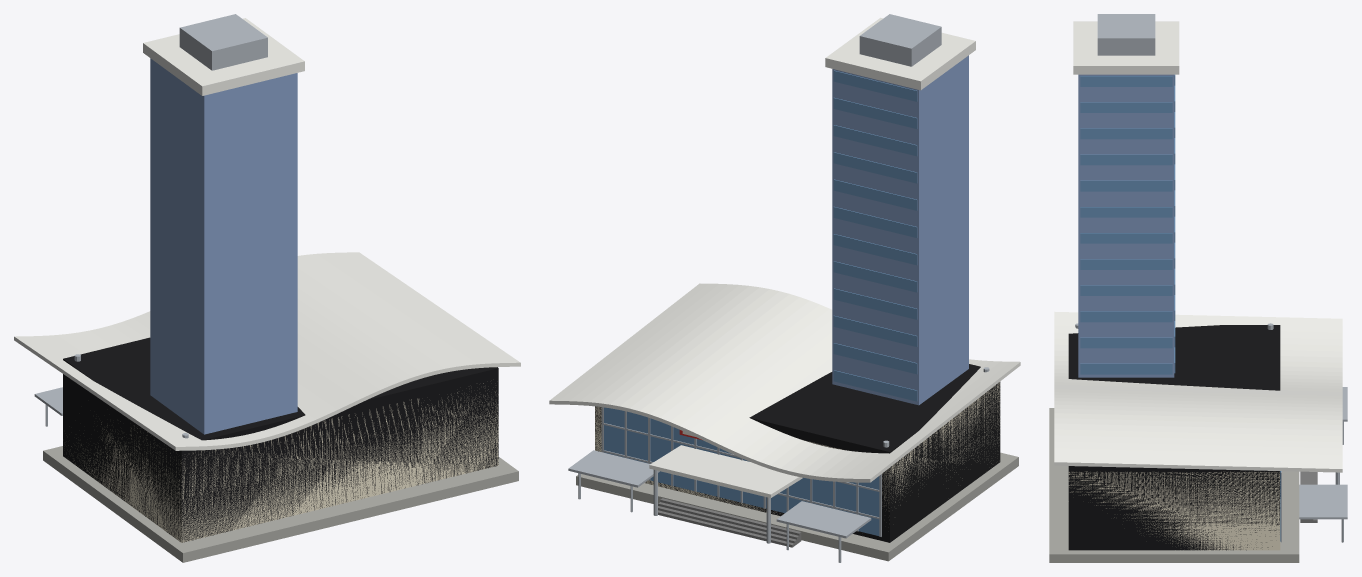
File: env_lm_kl_sentral.fbx
3 renders of one model, left to right at view 1: azimuth 30°, elevation 25°; view 2: azimuth 150°, elevation 25°; view 3: azimuth 270°, elevation 25°, orthographic. The views are drawn at different scales.
Parts seen in each view (by area): view 1: env_lm_kl_sentral_geo_LOD0, COL_env_lm_kl_sentral; view 2: env_lm_kl_sentral_geo_LOD0, COL_env_lm_kl_sentral; view 3: env_lm_kl_sentral_geo_LOD0, COL_env_lm_kl_sentral.
Boxes of the visible parts, x1,y1,x2,y2 form: env_lm_kl_sentral_geo_LOD0: [14, 14, 520, 562]; COL_env_lm_kl_sentral: [63, 337, 498, 542]; env_lm_kl_sentral_geo_LOD0: [549, 14, 1020, 562]; COL_env_lm_kl_sentral: [595, 364, 1000, 542]; env_lm_kl_sentral_geo_LOD0: [1049, 14, 1347, 562]; COL_env_lm_kl_sentral: [1068, 325, 1280, 550].
Size of what is drawn, in the model's own units: 37 by 49.06 by 31.
